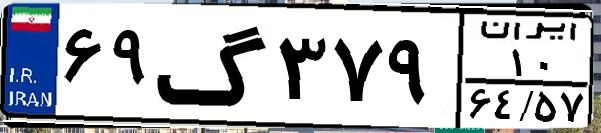0: (537, 27, 568, 80)
1: (508, 27, 537, 80)
3: (270, 28, 330, 110)
4: (495, 70, 520, 125)
5: (535, 70, 560, 125)
6: (57, 26, 110, 100), (470, 70, 495, 125)
7: (330, 28, 385, 110), (560, 70, 590, 125)
9: (385, 28, 445, 110), (110, 28, 156, 98)
گ: (156, 12, 270, 120)
